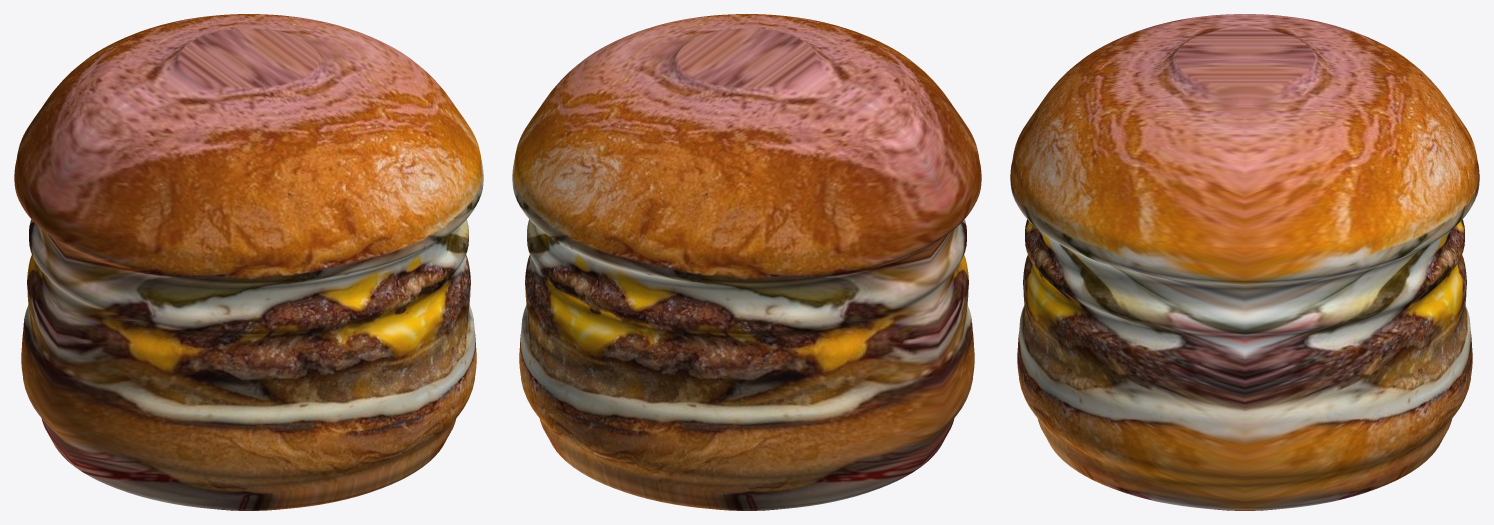
The model's file is truffle-wagyu.glb.
3 renders of one model, left to right at view 1: azimuth 30°, elevation 25°; view 2: azimuth 150°, elevation 25°; view 3: azimuth 270°, elevation 25°, orthographic.
Visible parts, largest first — view 1: Dish; view 2: Dish; view 3: Dish.
Part boxes in pixels (<box>): Dish: <box>14,14,483,510</box>; Dish: <box>512,14,981,510</box>; Dish: <box>1010,14,1479,510</box>.
Size of the model in its own units: 0.11 by 0.1017 by 0.11.
Materials: 2 (1 with a texture image).
